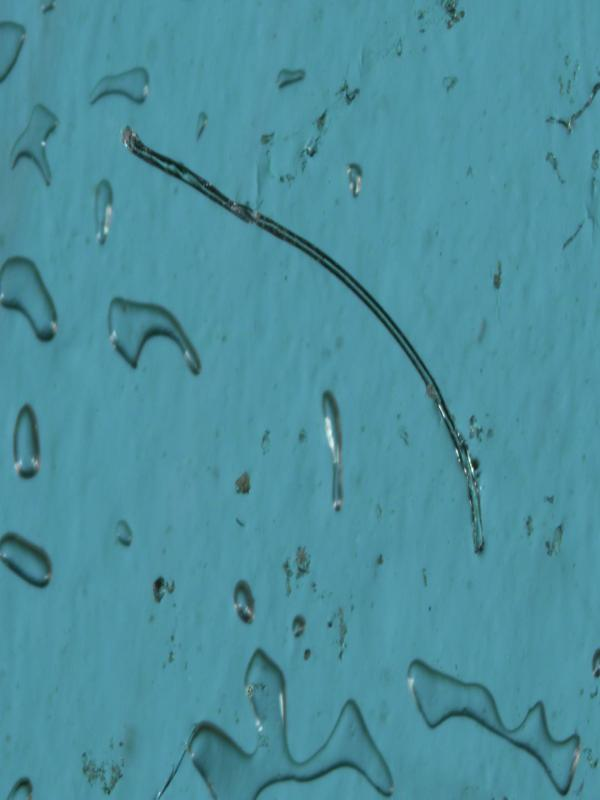microplastic: (2, 3, 596, 797), (118, 121, 486, 556)
